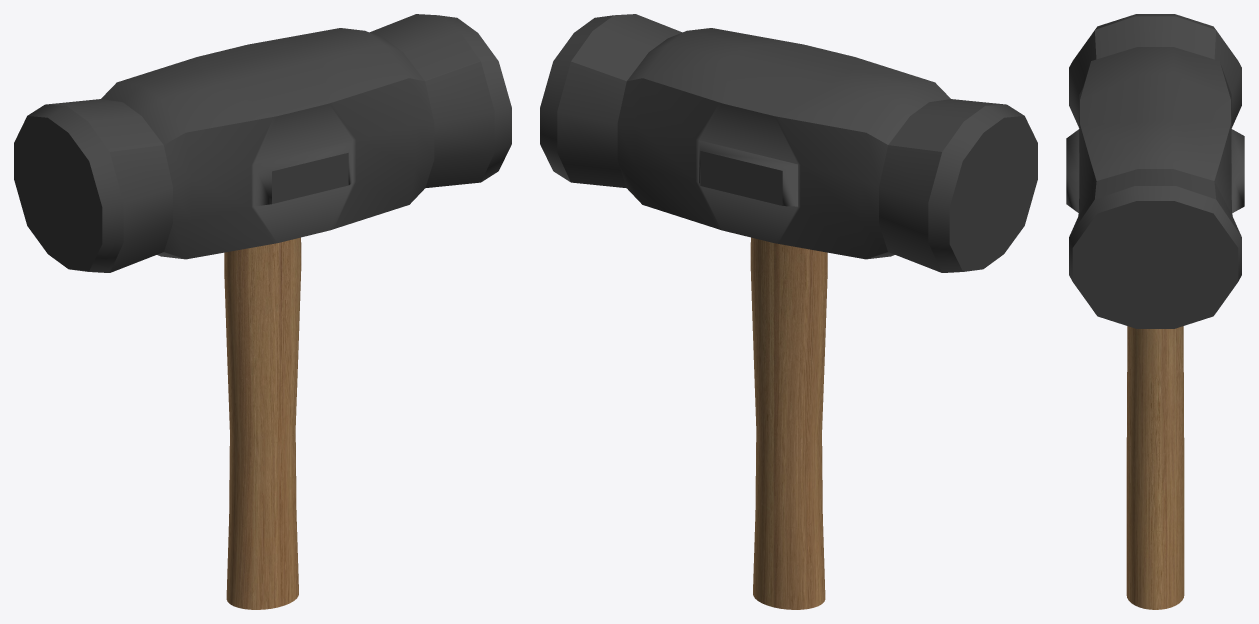
Rendered from Hammer.fbx.
The picture shows the model from 3 angles, left to right: view 1: azimuth 30°, elevation 25°; view 2: azimuth 150°, elevation 25°; view 3: azimuth 270°, elevation 25°; orthographic projection. The views are drawn at different scales.
Parts seen in each view (by area): view 1: Hammer, Handle; view 2: Hammer, Handle; view 3: Hammer, Handle.
Part boxes in pixels (x1=…): Hammer: x1=14, y1=14, x2=511, y2=272; Handle: x1=224, y1=237, x2=301, y2=609; Hammer: x1=540, y1=14, x2=1037, y2=272; Handle: x1=750, y1=237, x2=827, y2=609; Hammer: x1=1066, y1=14, x2=1244, y2=328; Handle: x1=1126, y1=326, x2=1184, y2=609.
Bounding box in the file's own units: 504 × 625 × 203.
2 materials, 1 textured.
